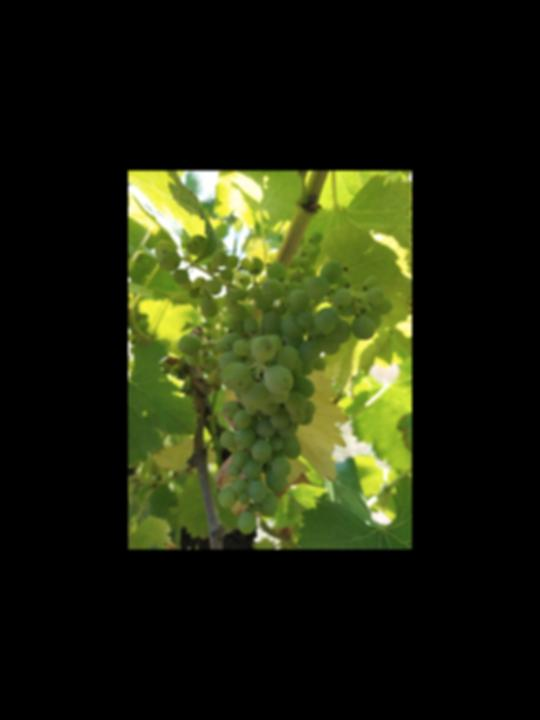grape: (153, 235, 394, 536)
